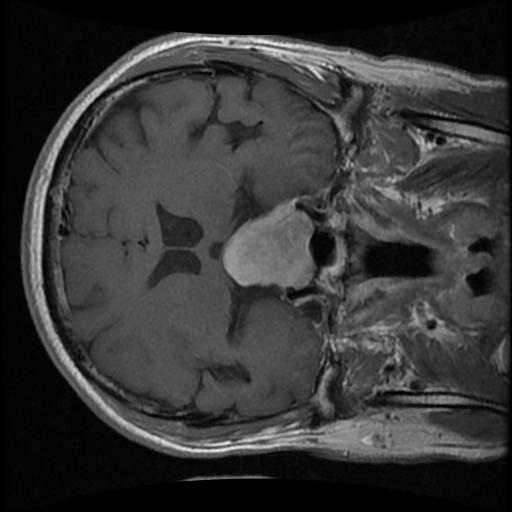pituitary tumour: (220, 199, 317, 289)
